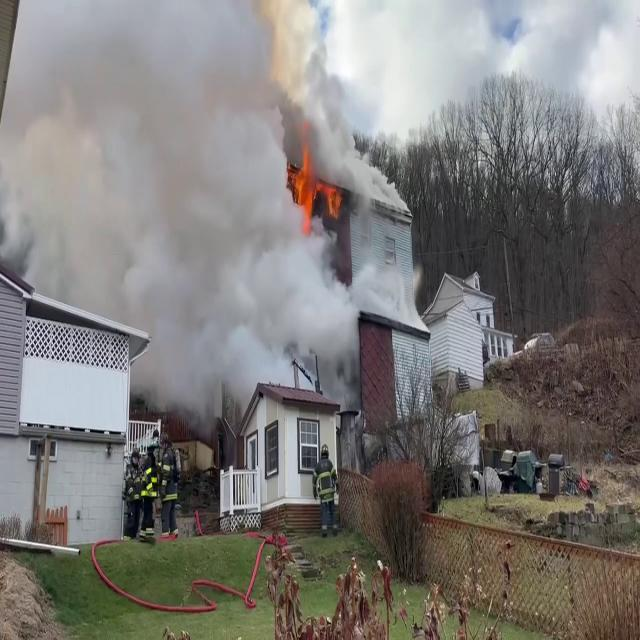Fire: (287, 141, 345, 228)
Smoke: (0, 0, 368, 400)
